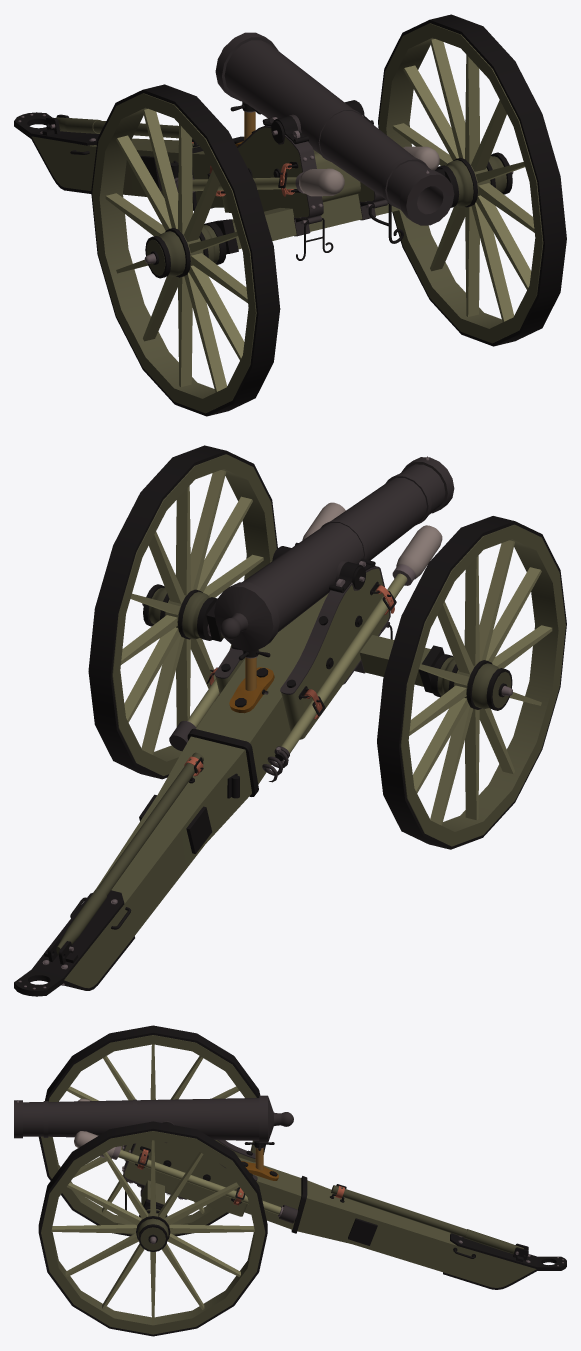
Rendered from 12-lb_howitzer.glb.
3 views of the same model, one above another, from view 1: azimuth 30°, elevation 25°; view 2: azimuth 150°, elevation 25°; view 3: azimuth 270°, elevation 25° (orthographic). The views are drawn at different scales.
Visible parts, largest first — view 1: Cube, Cylinder.022, Cylinder.010, Cylinder.023, Cylinder.011, Cube.030, Cube.001, Cube.003, Cube.008, Cube.018, Cube.014, Cube.024 (+25 smaller); view 2: Cube.030, Cube, Cylinder.022, Cylinder.023, Cylinder.011, Cylinder.010, Cube.001, Cylinder.087, Cube.048, Cylinder.073, Cube.002, Cube.020 (+26 smaller); view 3: Cube.030, Cube, Cylinder.010, Cylinder.022, Cube.001, Cylinder.011, Cylinder.023, Cylinder.087, Cube.048, Cylinder.024, Cube.016, Cube.010 (+10 smaller).
Part boxes in pixels (x1=…): Cube: x1=215, y1=32, x2=454, y2=225; Cylinder.022: x1=92, y1=93, x2=256, y2=413; Cylinder.010: x1=379, y1=23, x2=543, y2=343; Cylinder.023: x1=91, y1=84, x2=280, y2=416; Cylinder.011: x1=378, y1=14, x2=566, y2=346; Cube.030: x1=31, y1=136, x2=360, y2=207; Cube.001: x1=222, y1=127, x2=374, y2=217; Cube.003: x1=232, y1=194, x2=400, y2=249; Cube.008: x1=430, y1=39, x2=465, y2=158; Cube.018: x1=142, y1=108, x2=178, y2=228; Cube.014: x1=471, y1=202, x2=514, y2=322; Cube.024: x1=184, y1=272, x2=227, y2=392; Cube.030: x1=64, y1=593, x2=328, y2=988; Cube: x1=214, y1=457, x2=454, y2=651; Cylinder.022: x1=400, y1=524, x2=565, y2=846; Cylinder.023: x1=377, y1=516, x2=566, y2=849; Cylinder.011: x1=88, y1=445, x2=277, y2=779; Cylinder.010: x1=112, y1=454, x2=276, y2=775; Cube.001: x1=215, y1=568, x2=389, y2=739; Cylinder.087: x1=56, y1=752, x2=203, y2=955; Cube.048: x1=14, y1=890, x2=124, y2=993; Cylinder.073: x1=281, y1=573, x2=407, y2=753; Cube.002: x1=214, y1=566, x2=390, y2=694; Cube.020: x1=479, y1=540, x2=514, y2=661; Cube.030: x1=238, y1=1157, x2=536, y2=1287; Cube: x1=14, y1=1095, x2=293, y2=1142; Cylinder.010: x1=41, y1=1131, x2=265, y2=1334; Cylinder.022: x1=41, y1=1035, x2=256, y2=1234; Cube.001: x1=124, y1=1140, x2=256, y2=1216; Cylinder.011: x1=38, y1=1121, x2=267, y2=1336; Cylinder.023: x1=38, y1=1025, x2=265, y2=1236; Cylinder.087: x1=331, y1=1185, x2=523, y2=1254; Cube.048: x1=450, y1=1233, x2=566, y2=1269; Cylinder.024: x1=118, y1=1149, x2=281, y2=1214; Cube.016: x1=51, y1=1224, x2=136, y2=1233; Cube.010: x1=169, y1=1224, x2=254, y2=1233.
Size of the model in its own units: 140 by 111 by 267.
